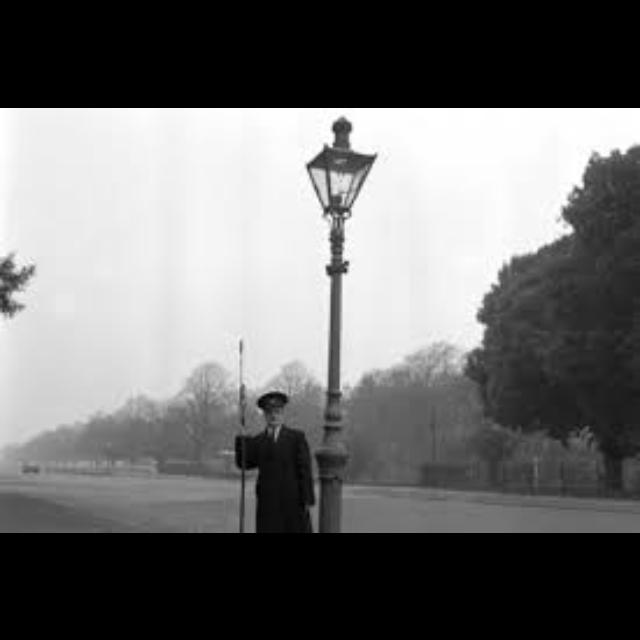Street-Lamp: (292, 112, 392, 532)
